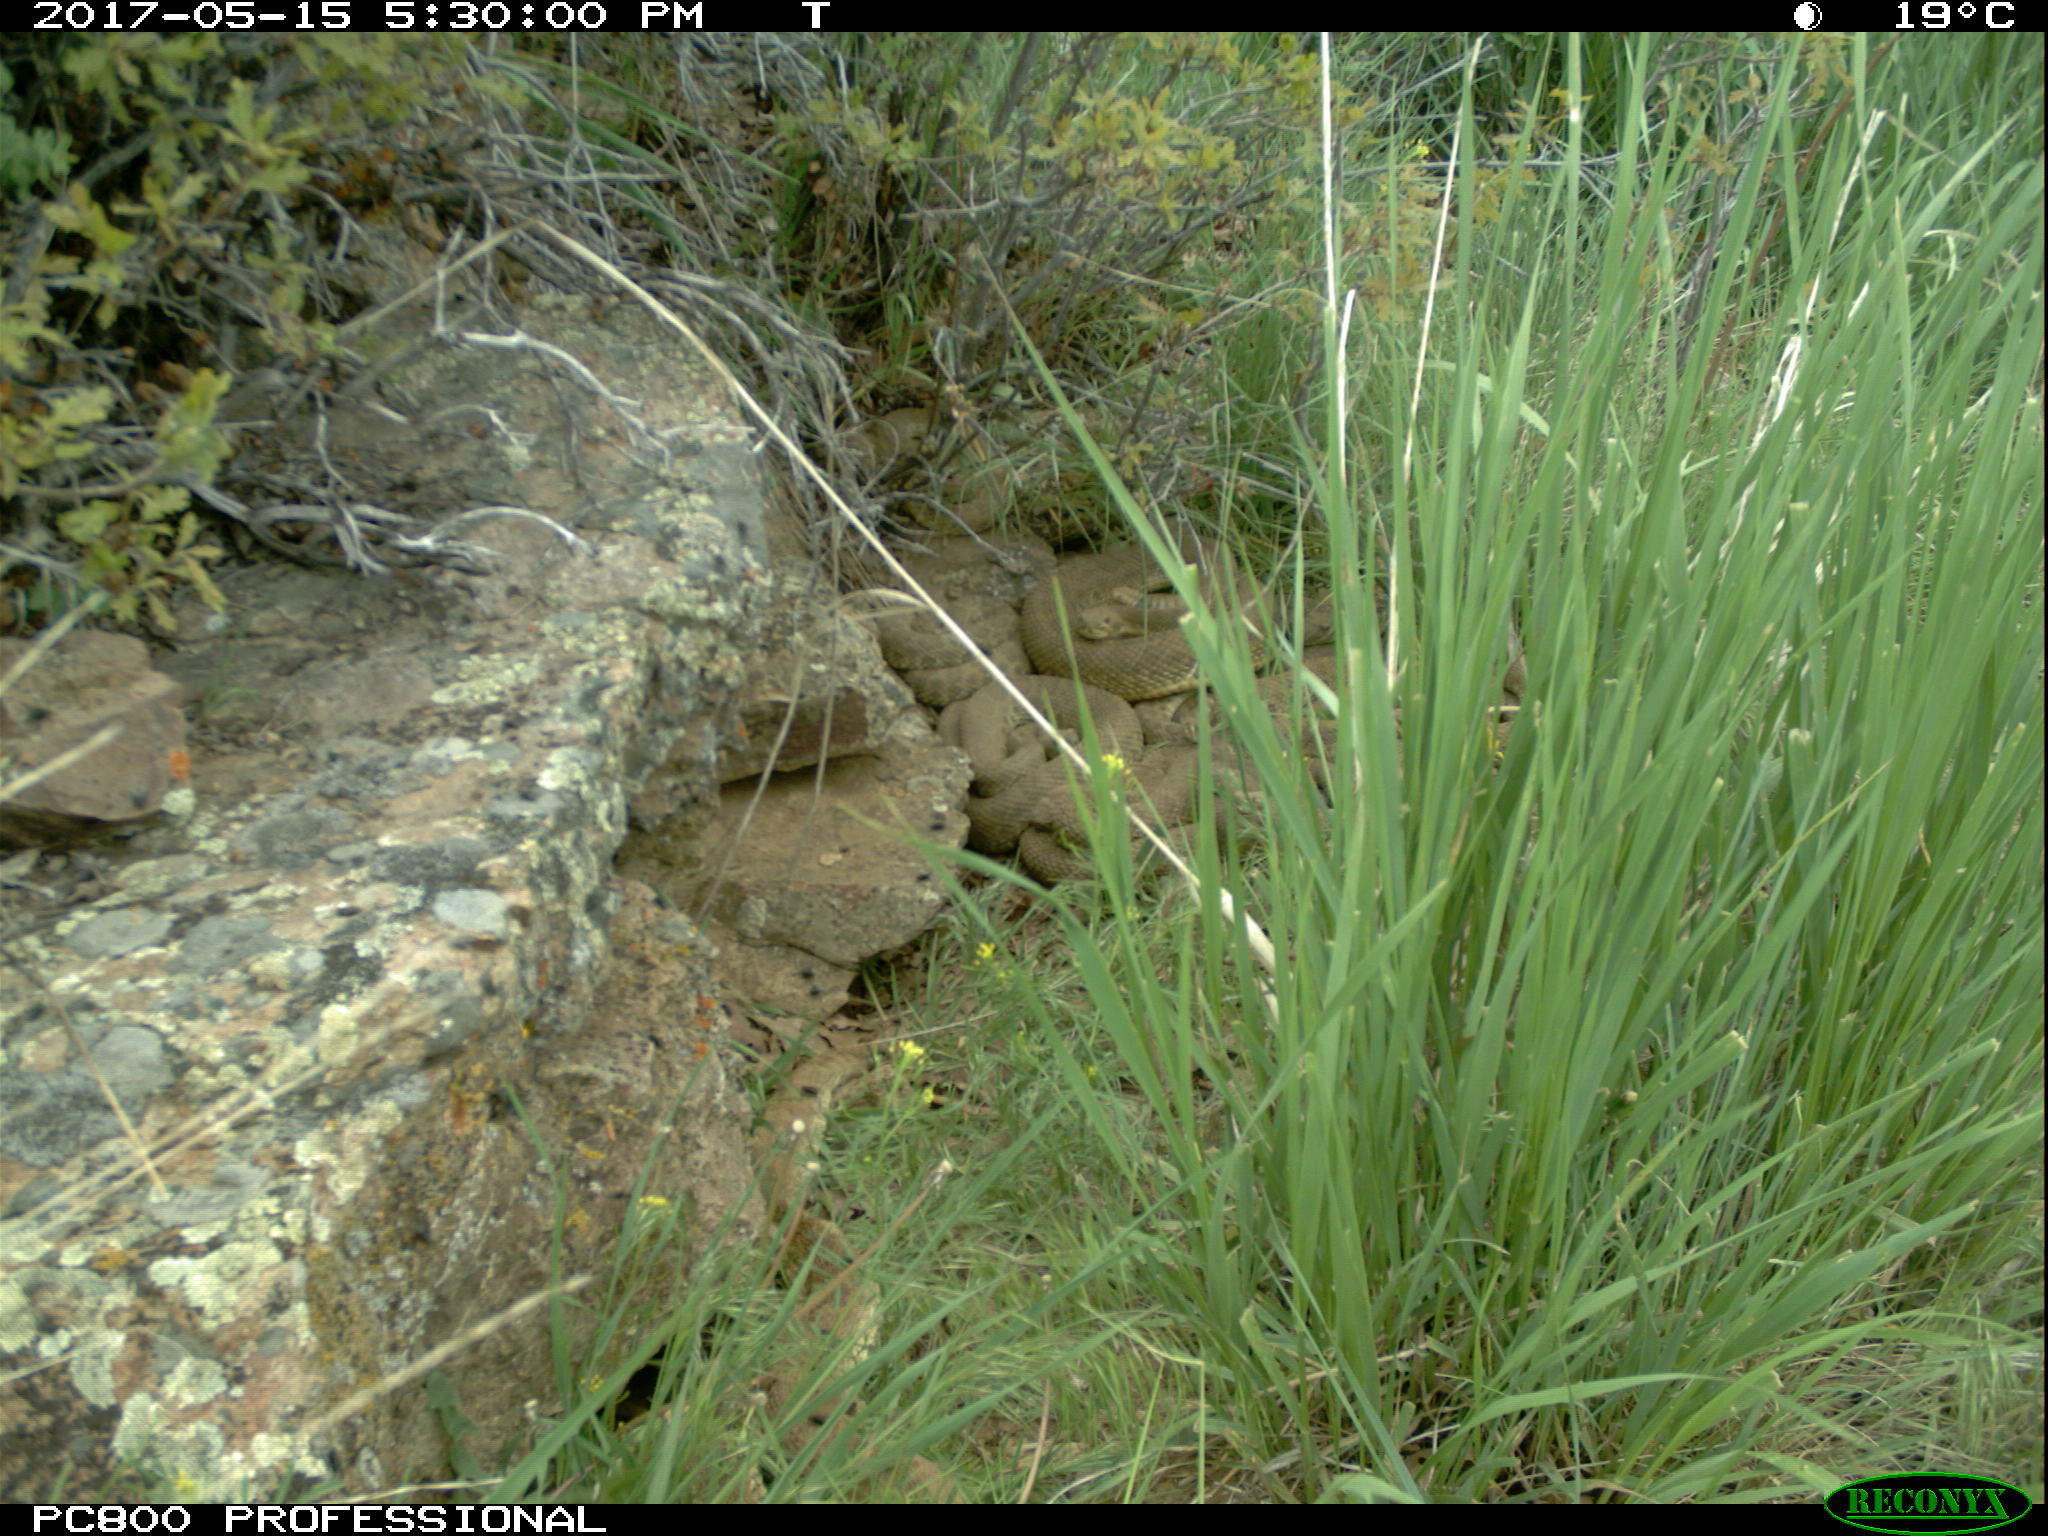snake: (751, 1049, 880, 1399), (1019, 536, 1285, 697), (935, 670, 1151, 858), (868, 594, 1034, 707), (905, 463, 1018, 537), (872, 408, 947, 465)
